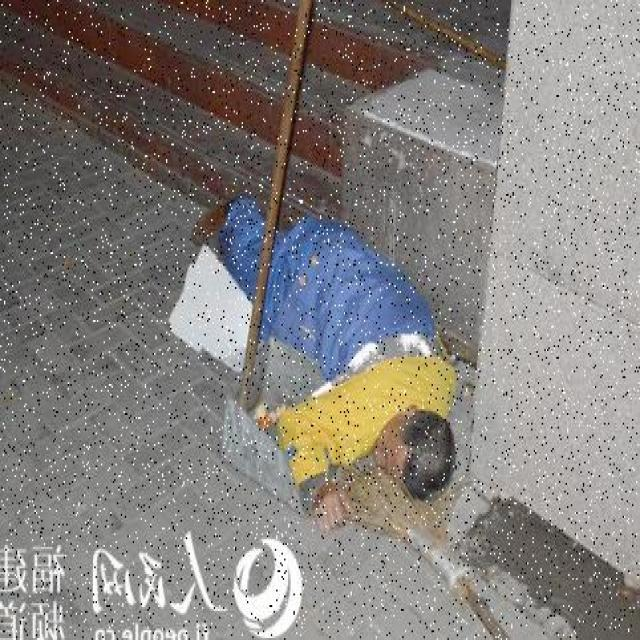fall: (206, 194, 458, 498)
